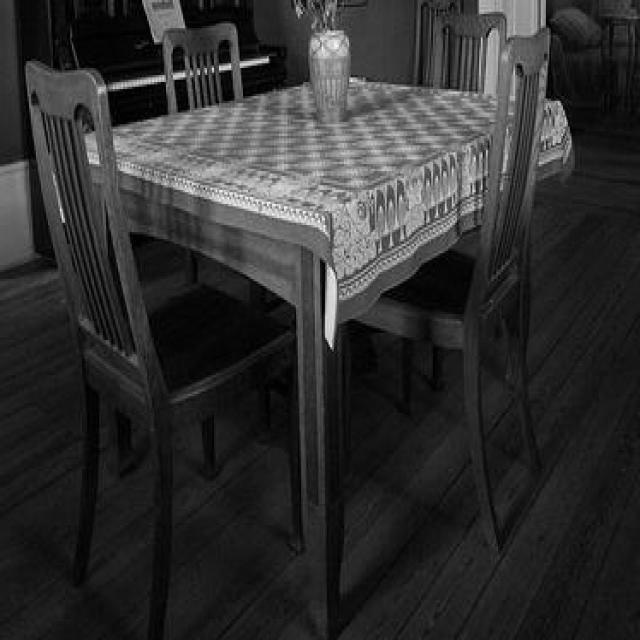chair: (22, 64, 286, 630), (342, 27, 552, 547)
table: (65, 48, 566, 632)
